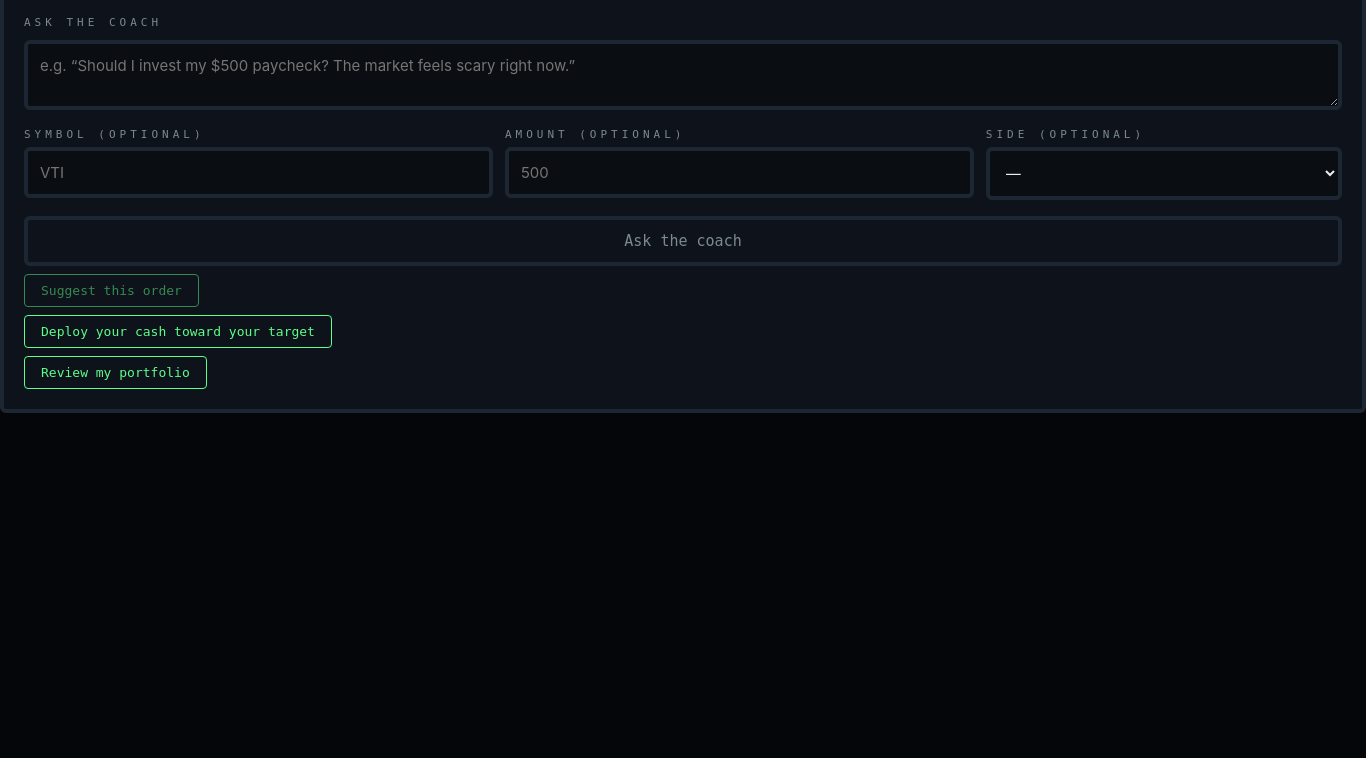
it: CoachConsult — live propose → approve/decline › prefers the coach's blessed order_intent over the raw form
Replace the text in the text box with test id "coach-ask-input" with "Is now an ok time to add to my index core?" at [683, 75], box left=24, top=40, right=1342, bottom=110
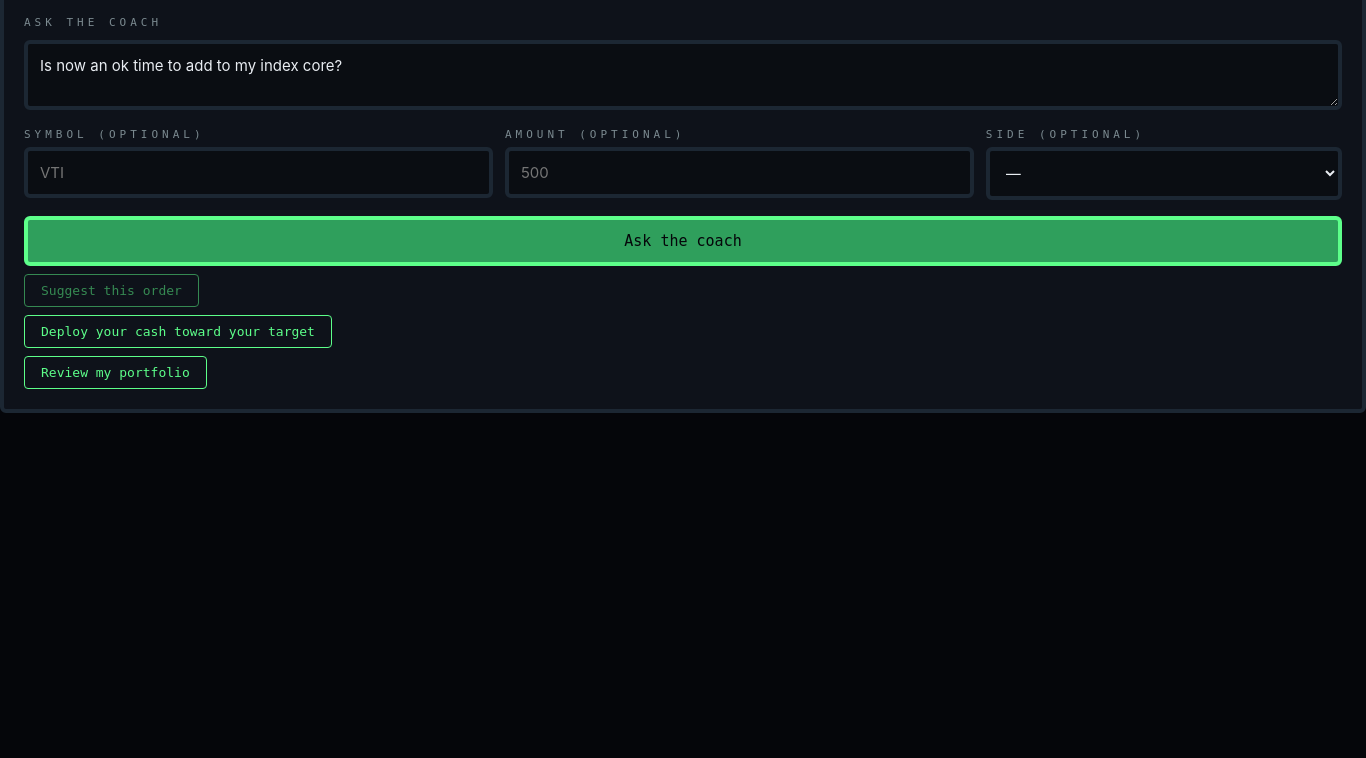
Click the button with test id "coach-ask-submit" at [683, 241], box left=24, top=216, right=1342, bottom=266
(page scrolled)
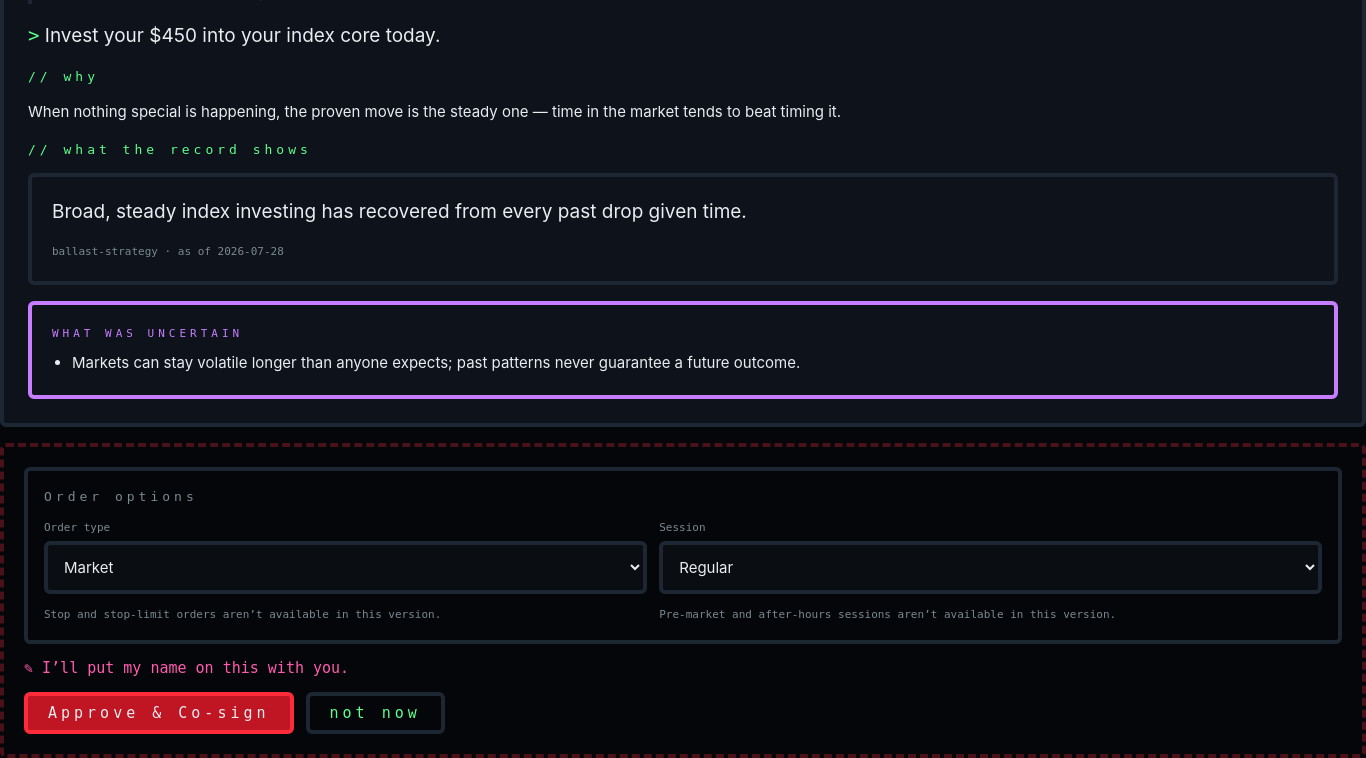
Now the button with test id "coach-approve" is shown
Click the button with test id "coach-approve" at [159, 712], box left=24, top=692, right=294, bottom=734
(page scrolled)
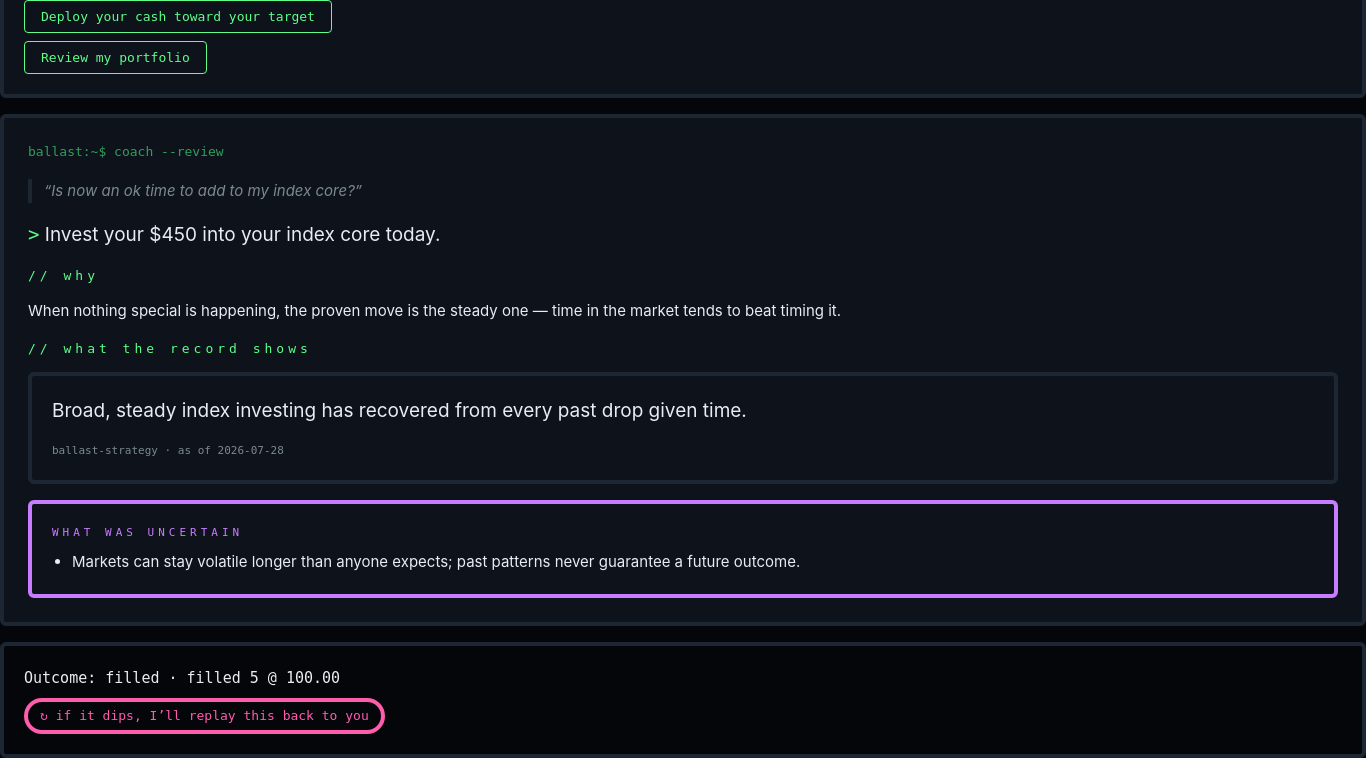
Now the message "Outcome: filled · filled 5 @ 100.00 ↻ if it dips, I’ll replay this back to you" is shown, box left=0, top=642, right=1365, bottom=757
